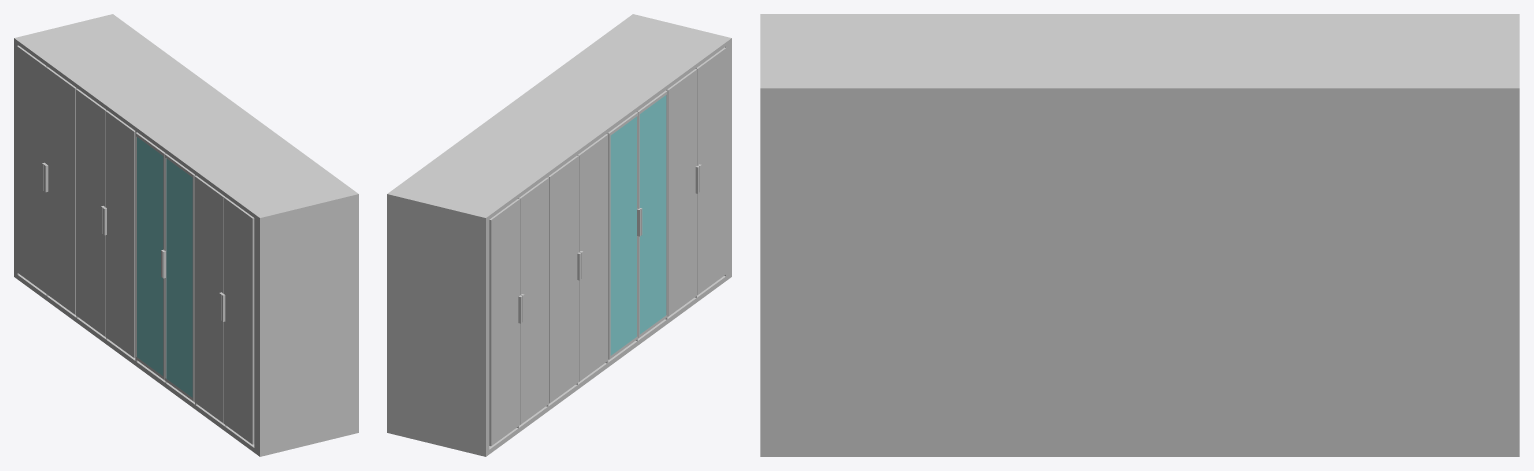
Rendered from armario1.fbx.
3 renders of one model, left to right at view 1: azimuth 30°, elevation 25°; view 2: azimuth 150°, elevation 25°; view 3: azimuth 270°, elevation 25°, orthographic. The views are drawn at different scales.
Parts seen in each view (by area): view 1: armario1; view 2: armario1; view 3: armario1.
Part boxes in pixels (x1,y1,x2,y2): armario1: (14,14,358,456); armario1: (387,14,731,456); armario1: (760,14,1519,456).
Bounding box in the file's own units: 1388 × 3094 × 5775.
